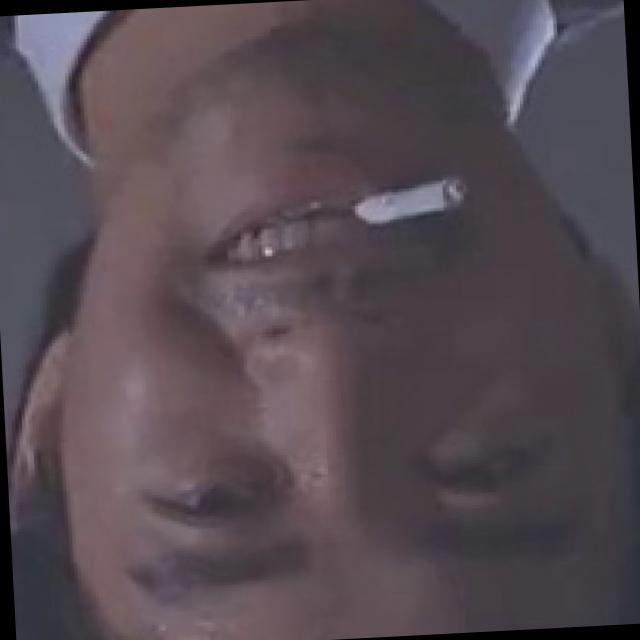smoke: (365, 172, 468, 234)
